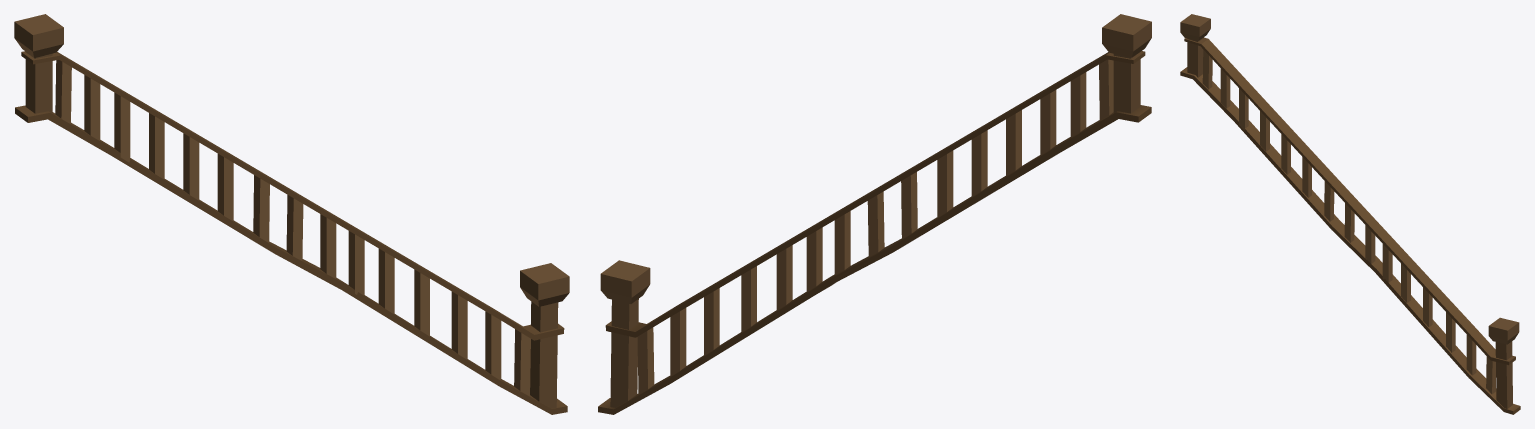
File: SM_Bld_House_Interior_StairRail_02.obj
3 renders of one model, left to right at view 1: azimuth 30°, elevation 25°; view 2: azimuth 150°, elevation 25°; view 3: azimuth 330°, elevation 25°, orthographic. The views are drawn at different scales.
Visible parts, largest first — view 1: SM_Bld_House_Interior_StairRail_02_Mat_SwatchOverlay_Farm_01_Woo; view 2: SM_Bld_House_Interior_StairRail_02_Mat_SwatchOverlay_Farm_01_Woo; view 3: SM_Bld_House_Interior_StairRail_02_Mat_SwatchOverlay_Farm_01_Woo.
Boxes of the visible parts, x1,y1,x2,y2 form: SM_Bld_House_Interior_StairRail_02_Mat_SwatchOverlay_Farm_01_Woo: (14,14,569,414); SM_Bld_House_Interior_StairRail_02_Mat_SwatchOverlay_Farm_01_Woo: (598,14,1151,414); SM_Bld_House_Interior_StairRail_02_Mat_SwatchOverlay_Farm_01_Woo: (1180,14,1520,414).
Bounding box in the file's own units: 9.53 × 8.61 × 0.612.
2 materials, 2 textured.
